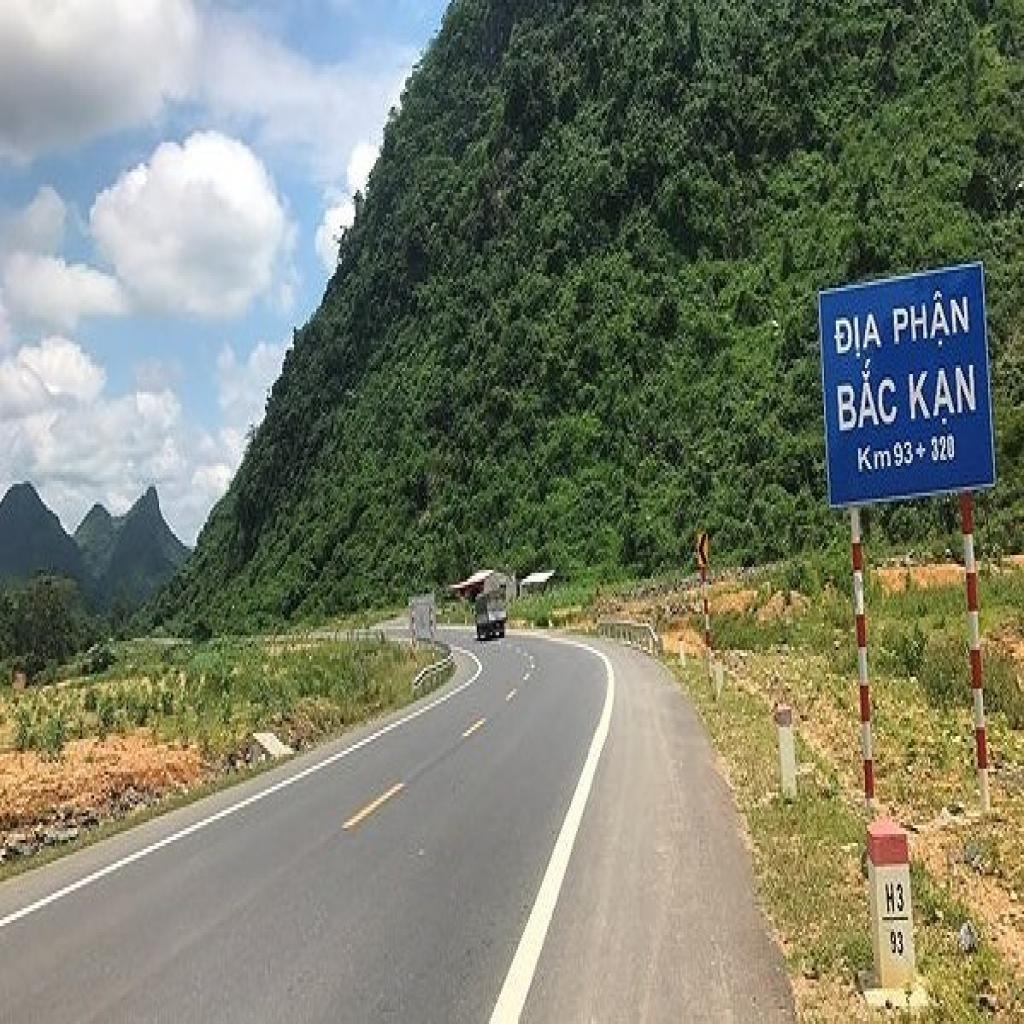text: (834, 354, 901, 436), (892, 285, 971, 353), (908, 362, 980, 433), (833, 312, 887, 365), (858, 442, 892, 475), (892, 439, 914, 472), (915, 442, 928, 463)
